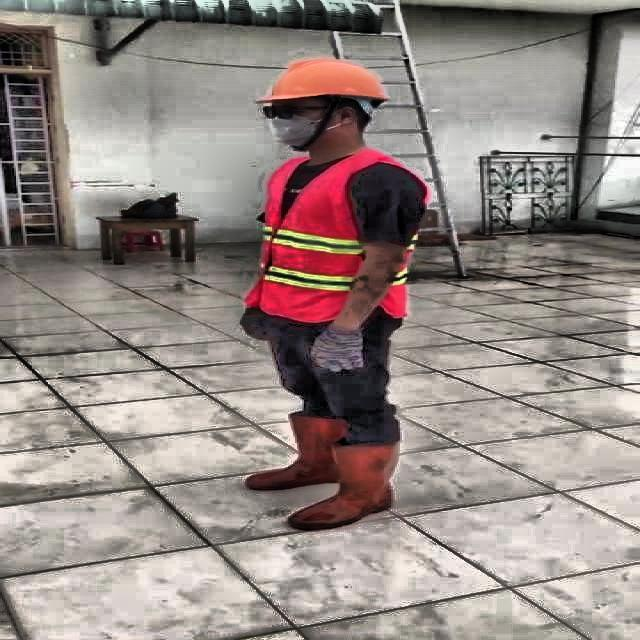safety_helmet: (261, 56, 396, 105)
safety_jacket: (238, 152, 430, 323)
